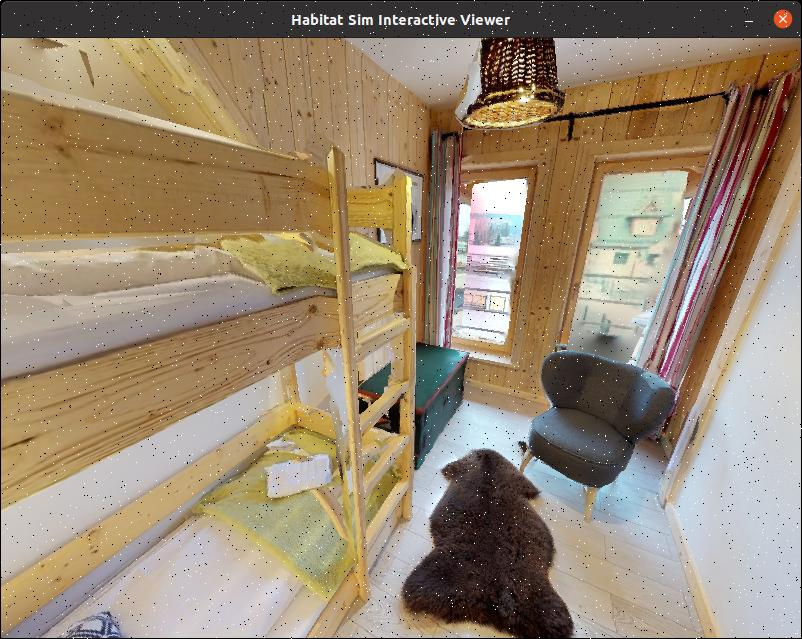bed: (0, 406, 468, 638)
sofa: (515, 329, 676, 530)
